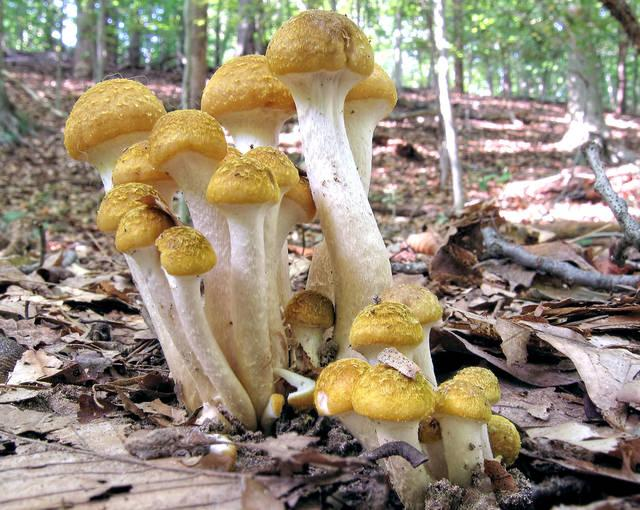Edible Mushroom: (64, 48, 302, 319), (264, 8, 395, 366), (310, 364, 529, 465), (398, 261, 435, 369)
